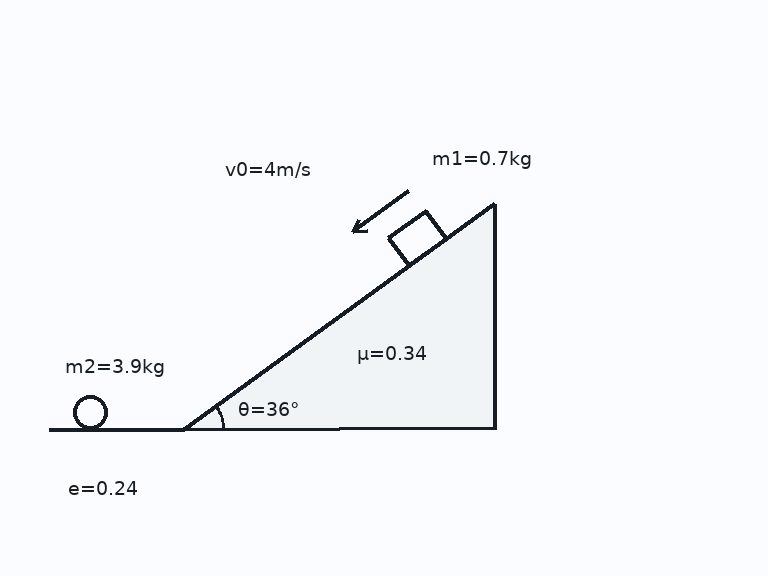ball: (71, 393, 109, 431)
block: (386, 208, 448, 267)
ramp: (181, 201, 496, 431)
